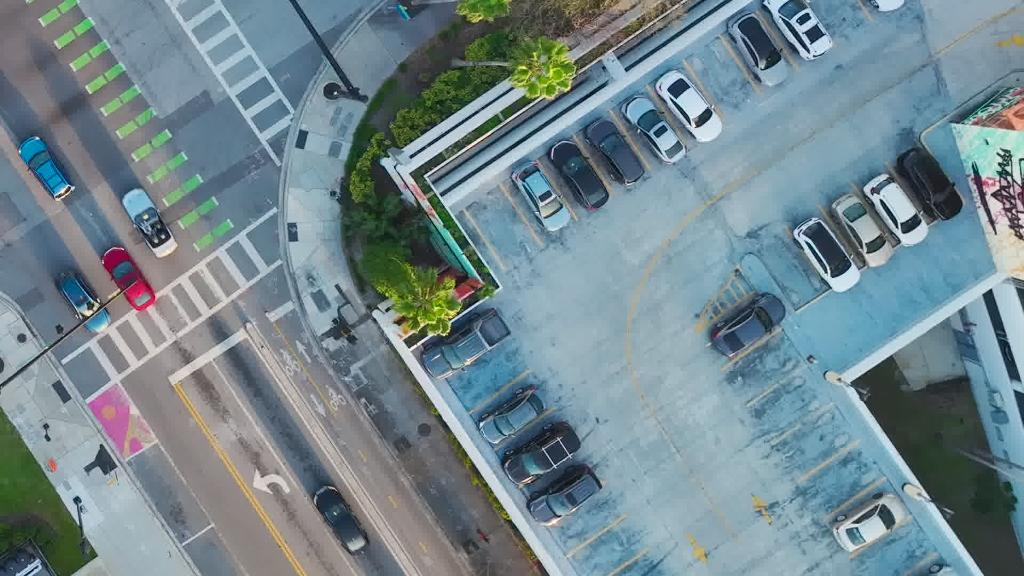cars: (422, 306, 512, 380), (501, 421, 581, 486), (793, 217, 861, 293), (895, 147, 963, 221), (726, 10, 792, 86), (655, 70, 723, 142), (712, 292, 786, 358), (526, 464, 602, 526), (620, 94, 686, 164), (864, 174, 928, 246), (830, 193, 892, 267), (548, 139, 610, 211), (585, 116, 647, 188), (476, 384, 550, 444), (832, 492, 906, 552), (762, 0, 834, 60), (512, 161, 570, 232), (312, 486, 370, 556), (122, 188, 178, 258), (18, 136, 74, 202), (56, 270, 110, 334), (102, 246, 156, 310), (839, 0, 909, 12), (924, 562, 960, 576)
